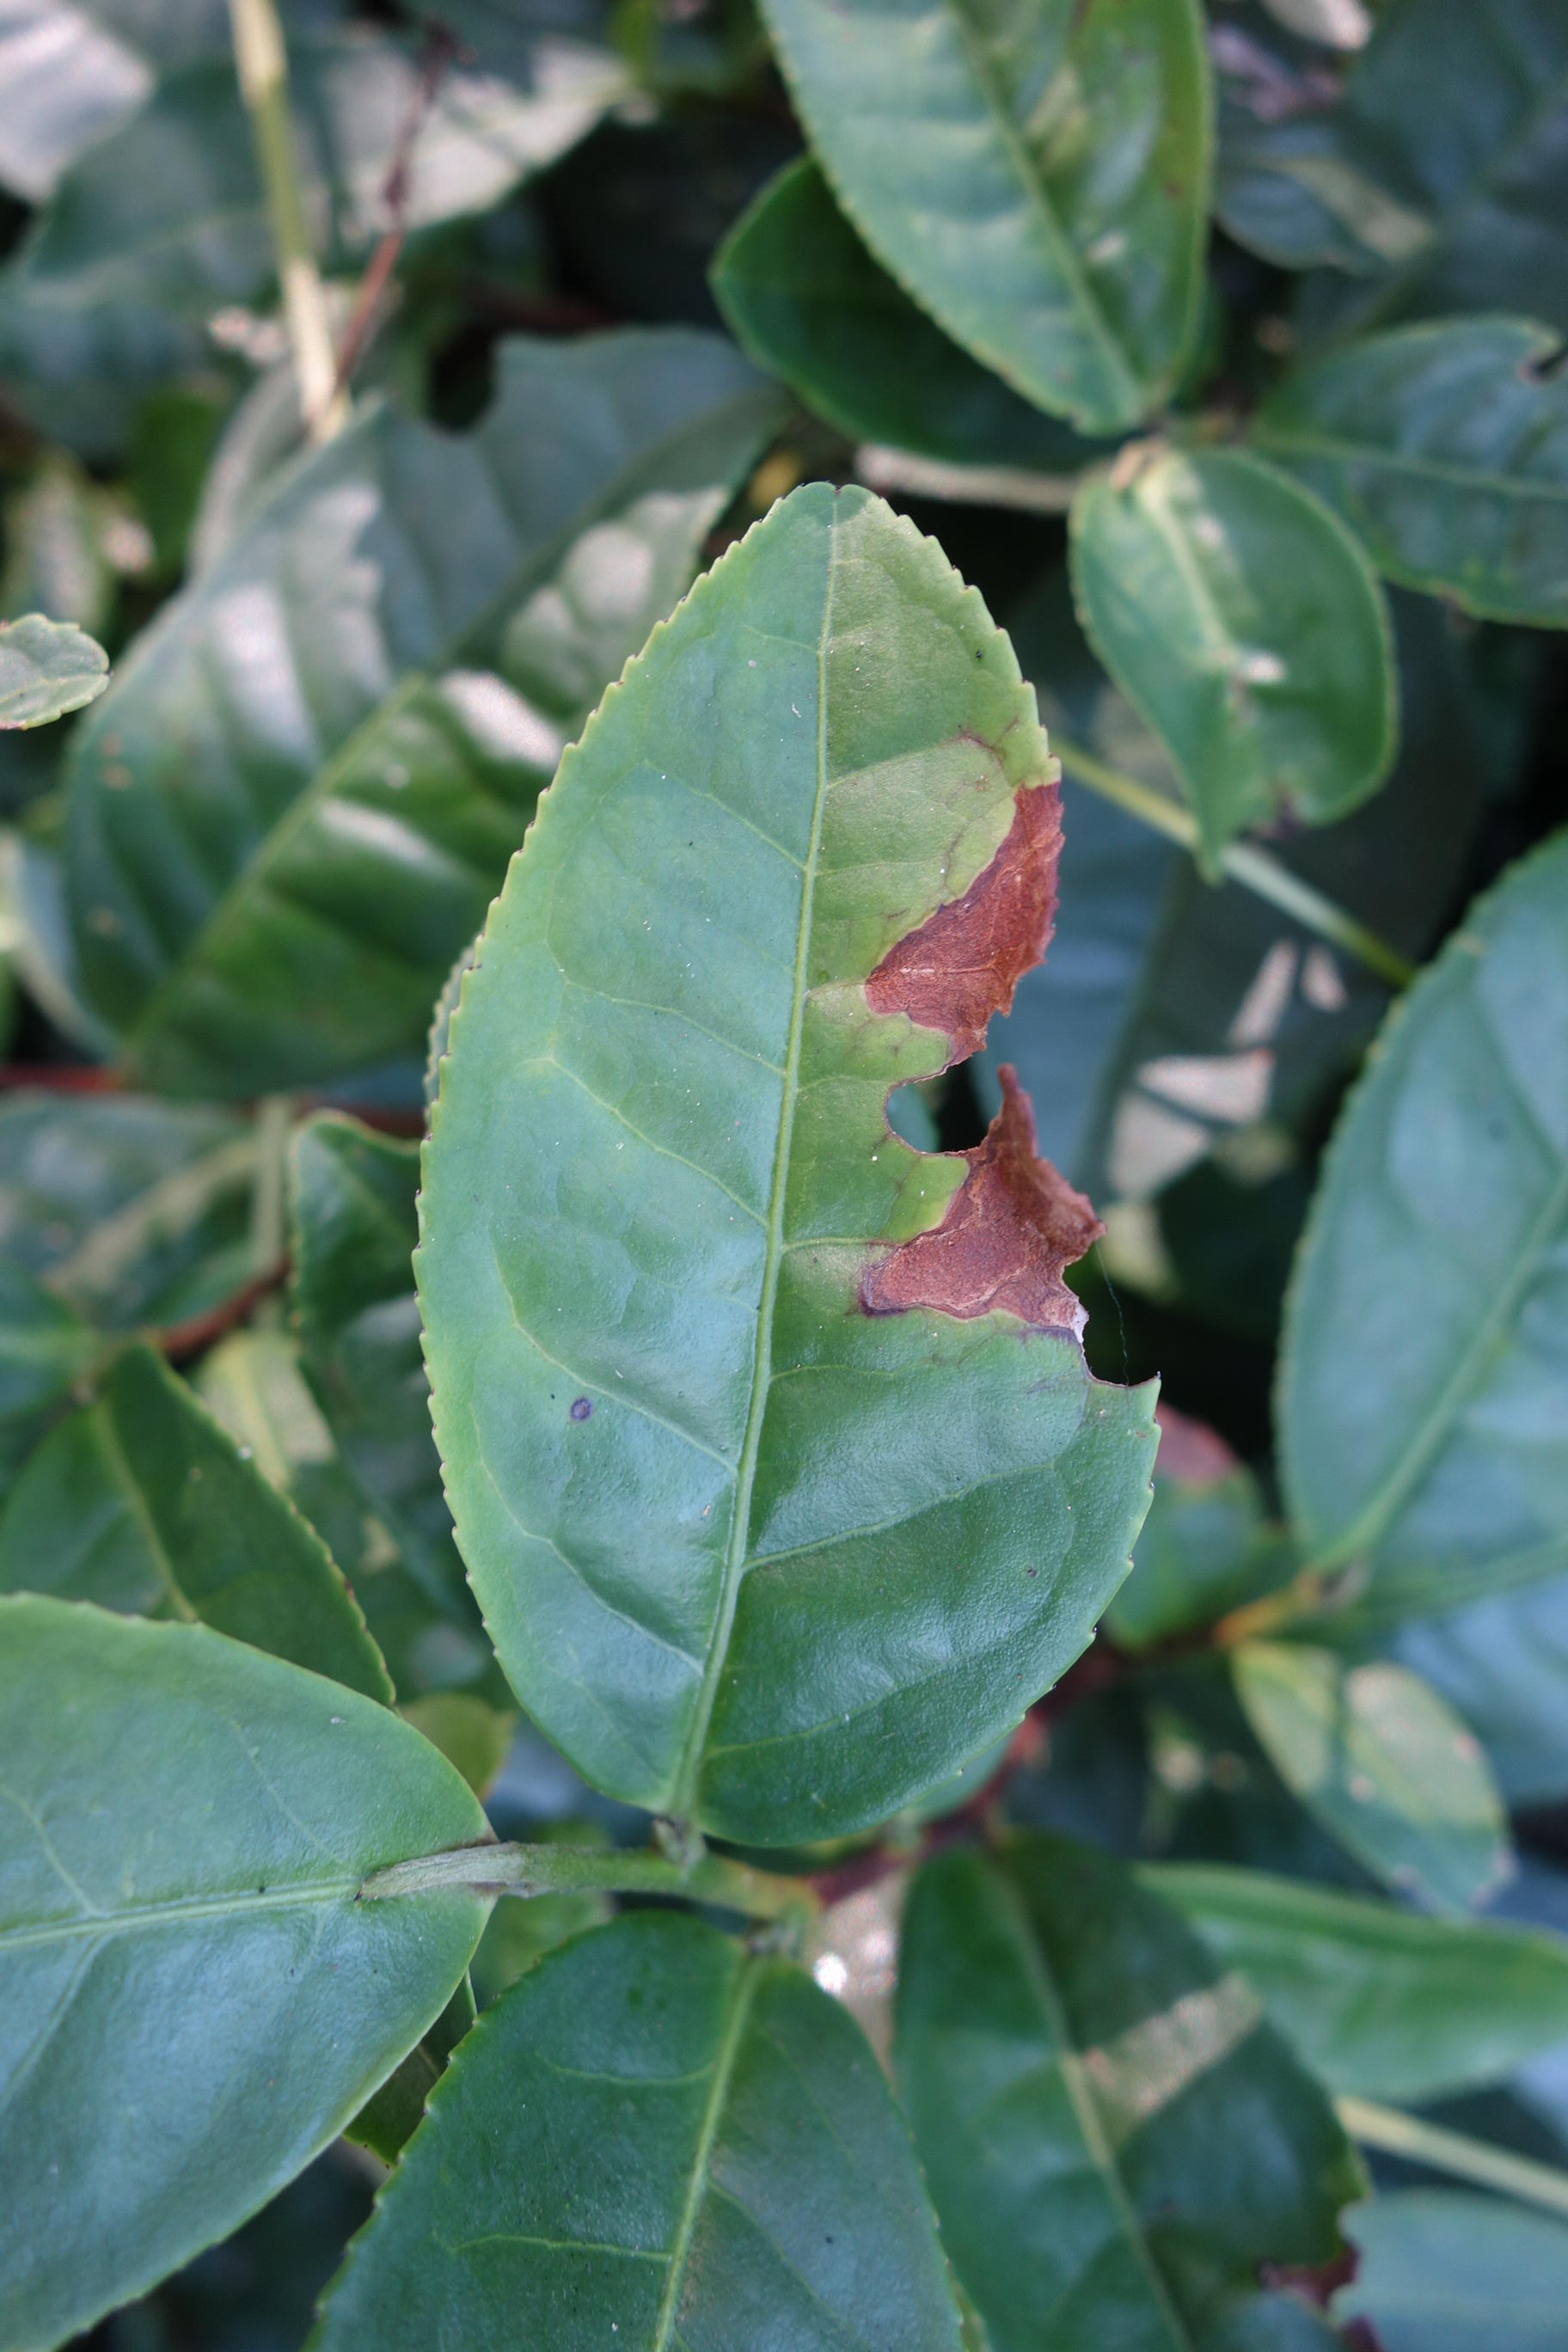tanju_high: (408, 471, 1164, 1878)
